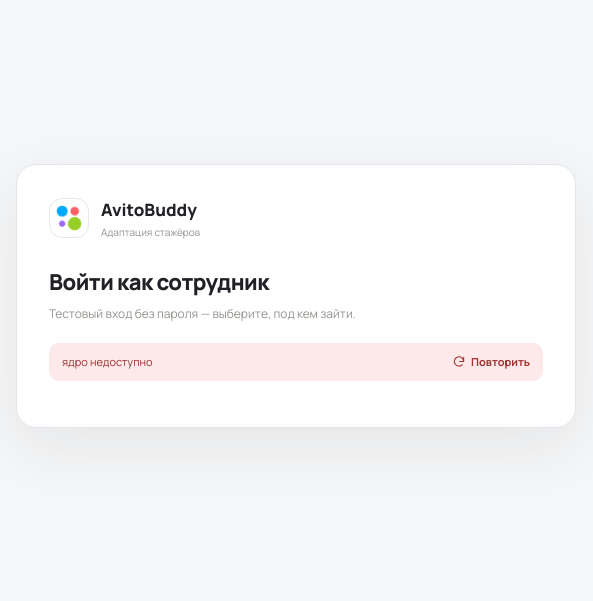
it: вход › ошибка загрузки и повтор
Expected: the text "ядро недоступно" is shown, [62,354,152,370]
Click the button "Повторить".
click(491, 362)  # box [452,354,530,370]
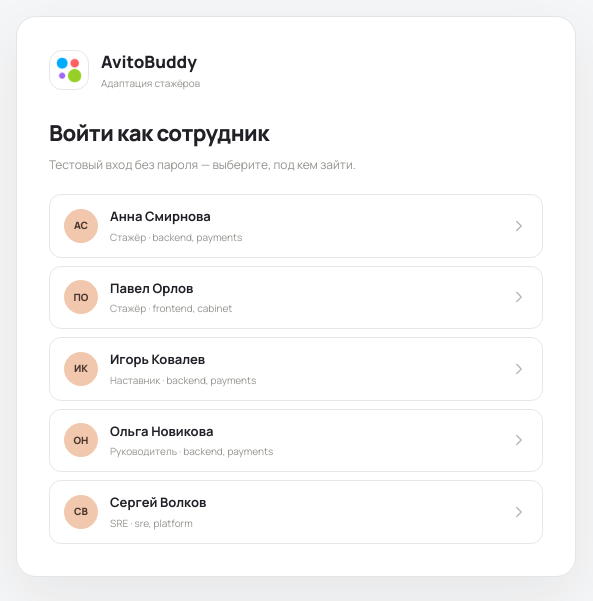
Now the text "Анна Смирнова" is shown, box [110,207,211,225]
